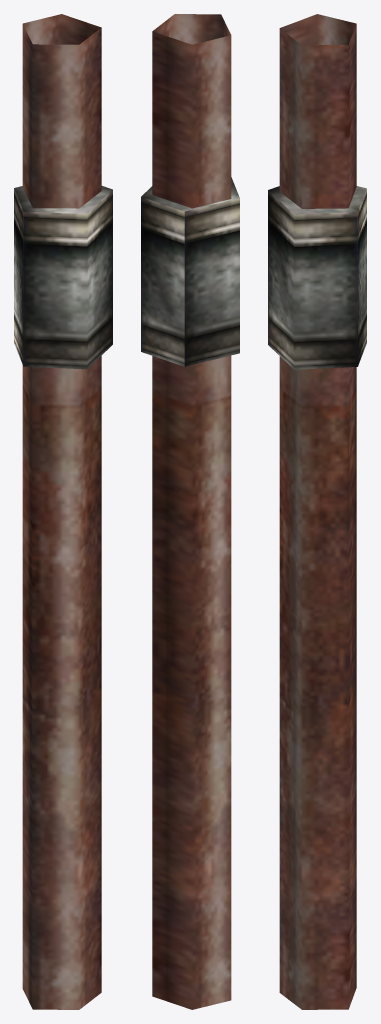
The model's file is pipe_bottom.fbx.
The picture shows the model from 3 angles, left to right: view 1: azimuth 30°, elevation 25°; view 2: azimuth 210°, elevation 25°; view 3: azimuth 330°, elevation 25°; orthographic projection.
Parts seen in each view (by area): view 1: mesh_0; view 2: mesh_0; view 3: mesh_0.
Part boxes in pixels (<box>): mesh_0: <box>14,14,112,1009</box>; mesh_0: <box>141,14,239,1009</box>; mesh_0: <box>268,14,366,1009</box>.
Bounding box in the file's own units: 38.88 × 400 × 33.87.
1 material, 1 textured.
